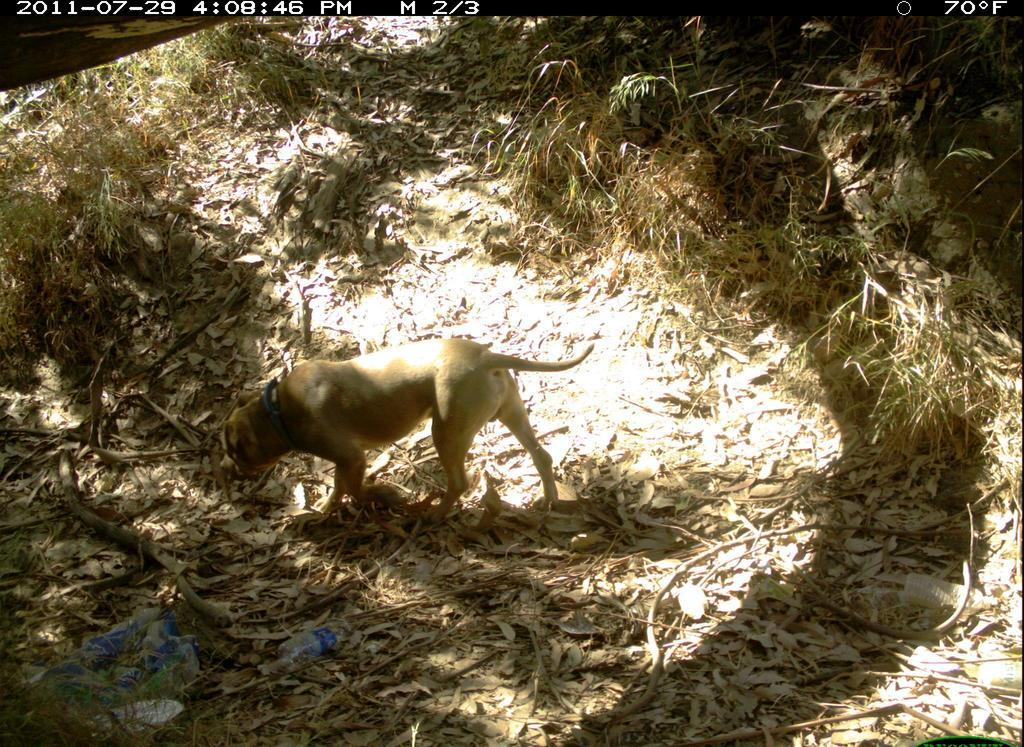dog: (205, 312, 624, 550)
